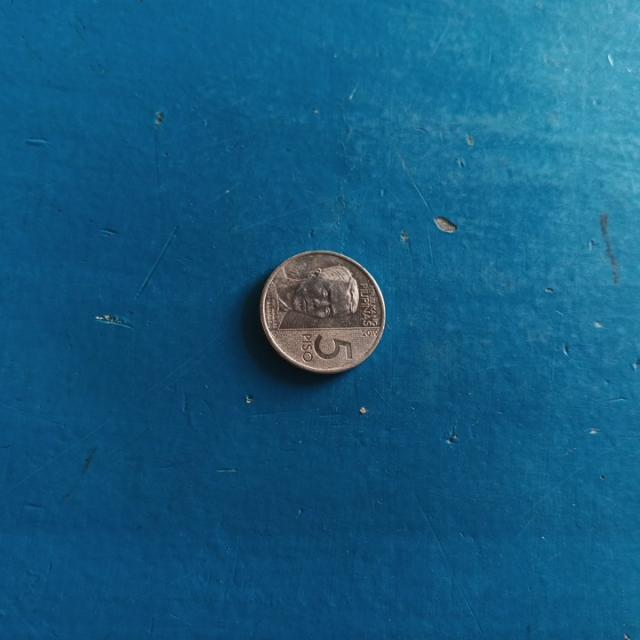5 peso: (257, 241, 393, 384)
